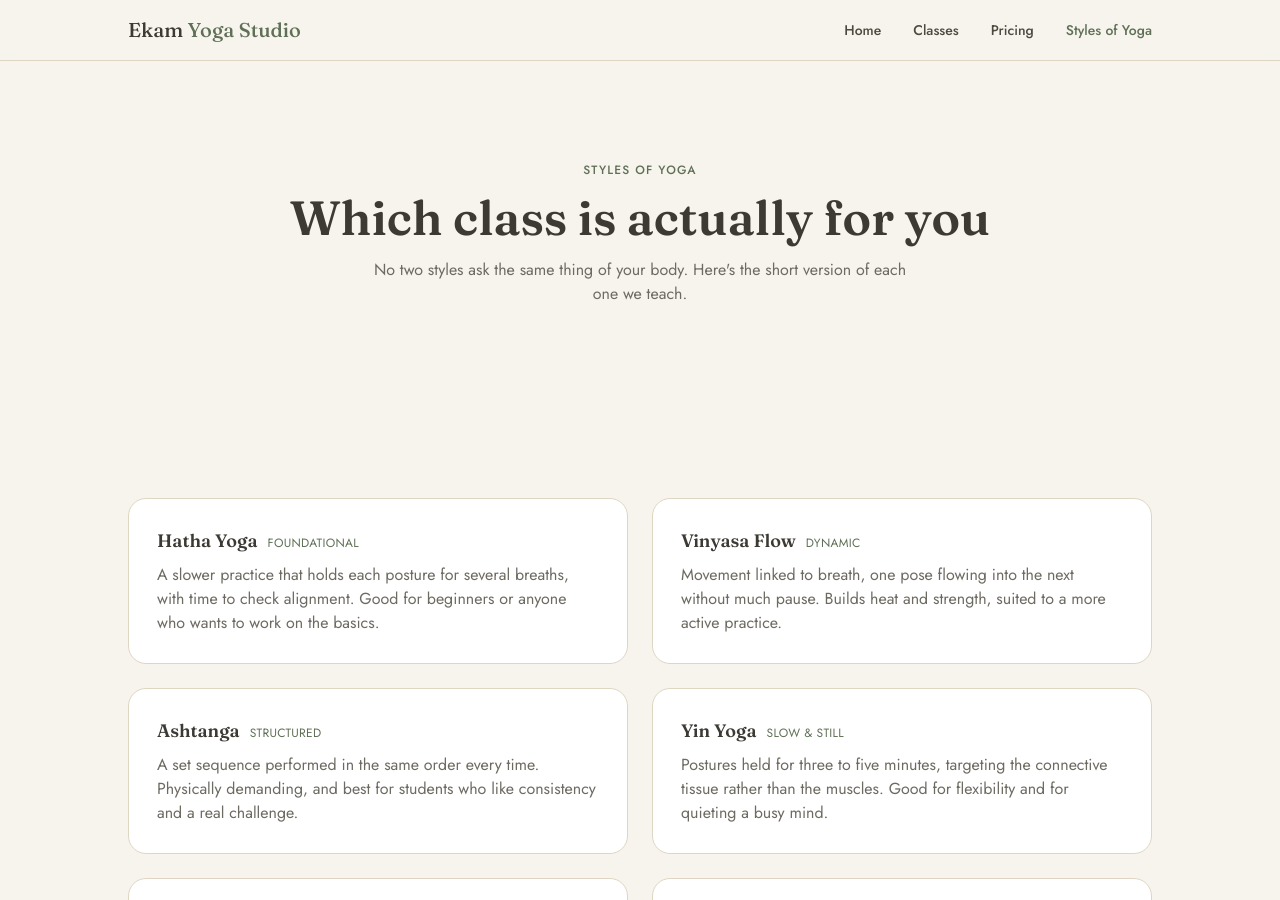
Cross-page user flows › lets a visitor use the nav bar to reach pricing from anywhere on the site
This screenshot has width=1280, height=900.
Click the link "Pricing" at (1012, 30), box [991, 20, 1034, 40]
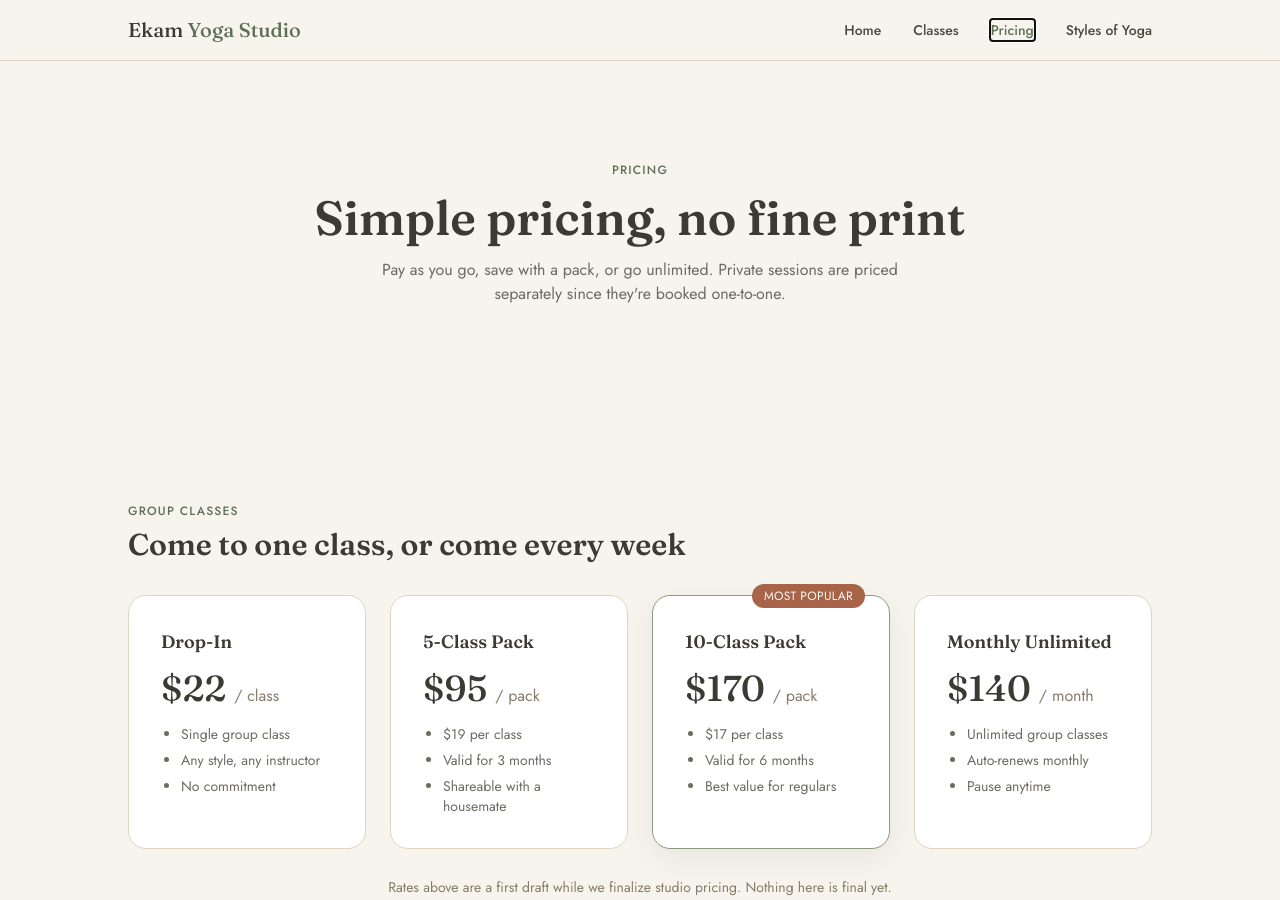
Now the heading "Simple pricing, no fine print" is shown, box [314, 188, 966, 247]
